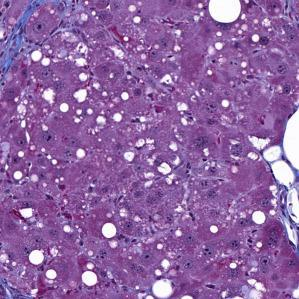fibrosis: (4, 6, 50, 68)
